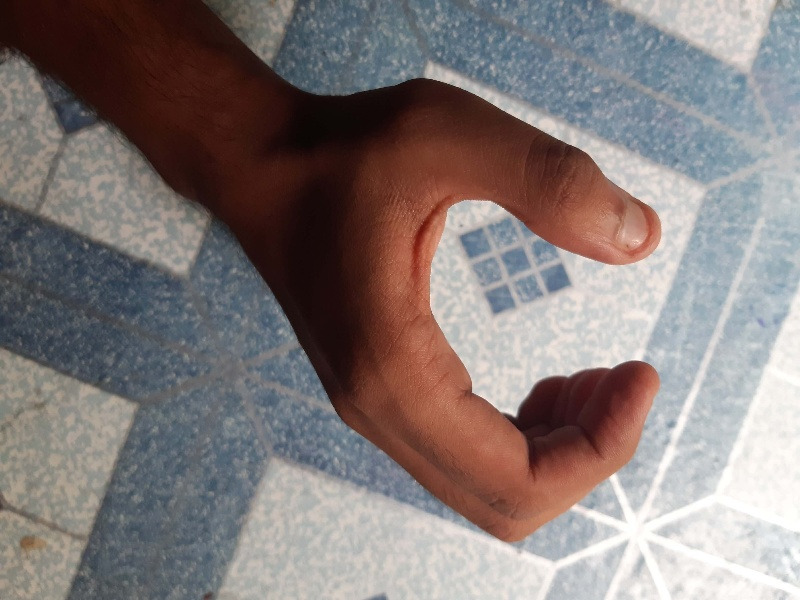one: (237, 60, 695, 555)
